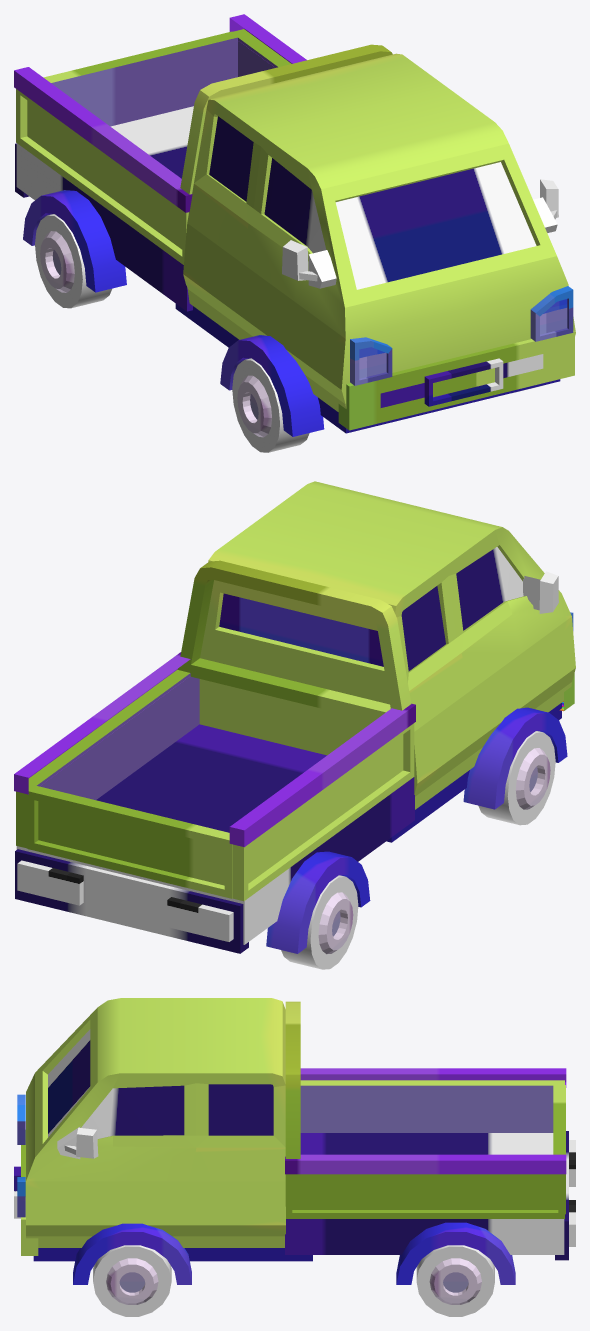
The model's file is Purple_Small_Truck.fbx.
3 views of the same model, one above another, from view 1: azimuth 30°, elevation 25°; view 2: azimuth 150°, elevation 25°; view 3: azimuth 270°, elevation 25° (orthographic). The views are drawn at different scales.
Parts seen in each view (by area): view 1: Brown_Small_Truck, Brown_Small_Truck_Back_Door; view 2: Brown_Small_Truck, Brown_Small_Truck_Back_Door; view 3: Brown_Small_Truck, Brown_Small_Truck_Back_Door.
Boxes of the visible parts, x1,y1,x2,y2 form: Brown_Small_Truck: (14,14,575,452); Brown_Small_Truck_Back_Door: (43,31,238,126); Brown_Small_Truck: (14,481,575,969); Brown_Small_Truck_Back_Door: (27,785,232,898); Brown_Small_Truck: (14,998,575,1316); Brown_Small_Truck_Back_Door: (553,1085,565,1214).
Bounding box in the file's own units: 201 × 185 × 417.
